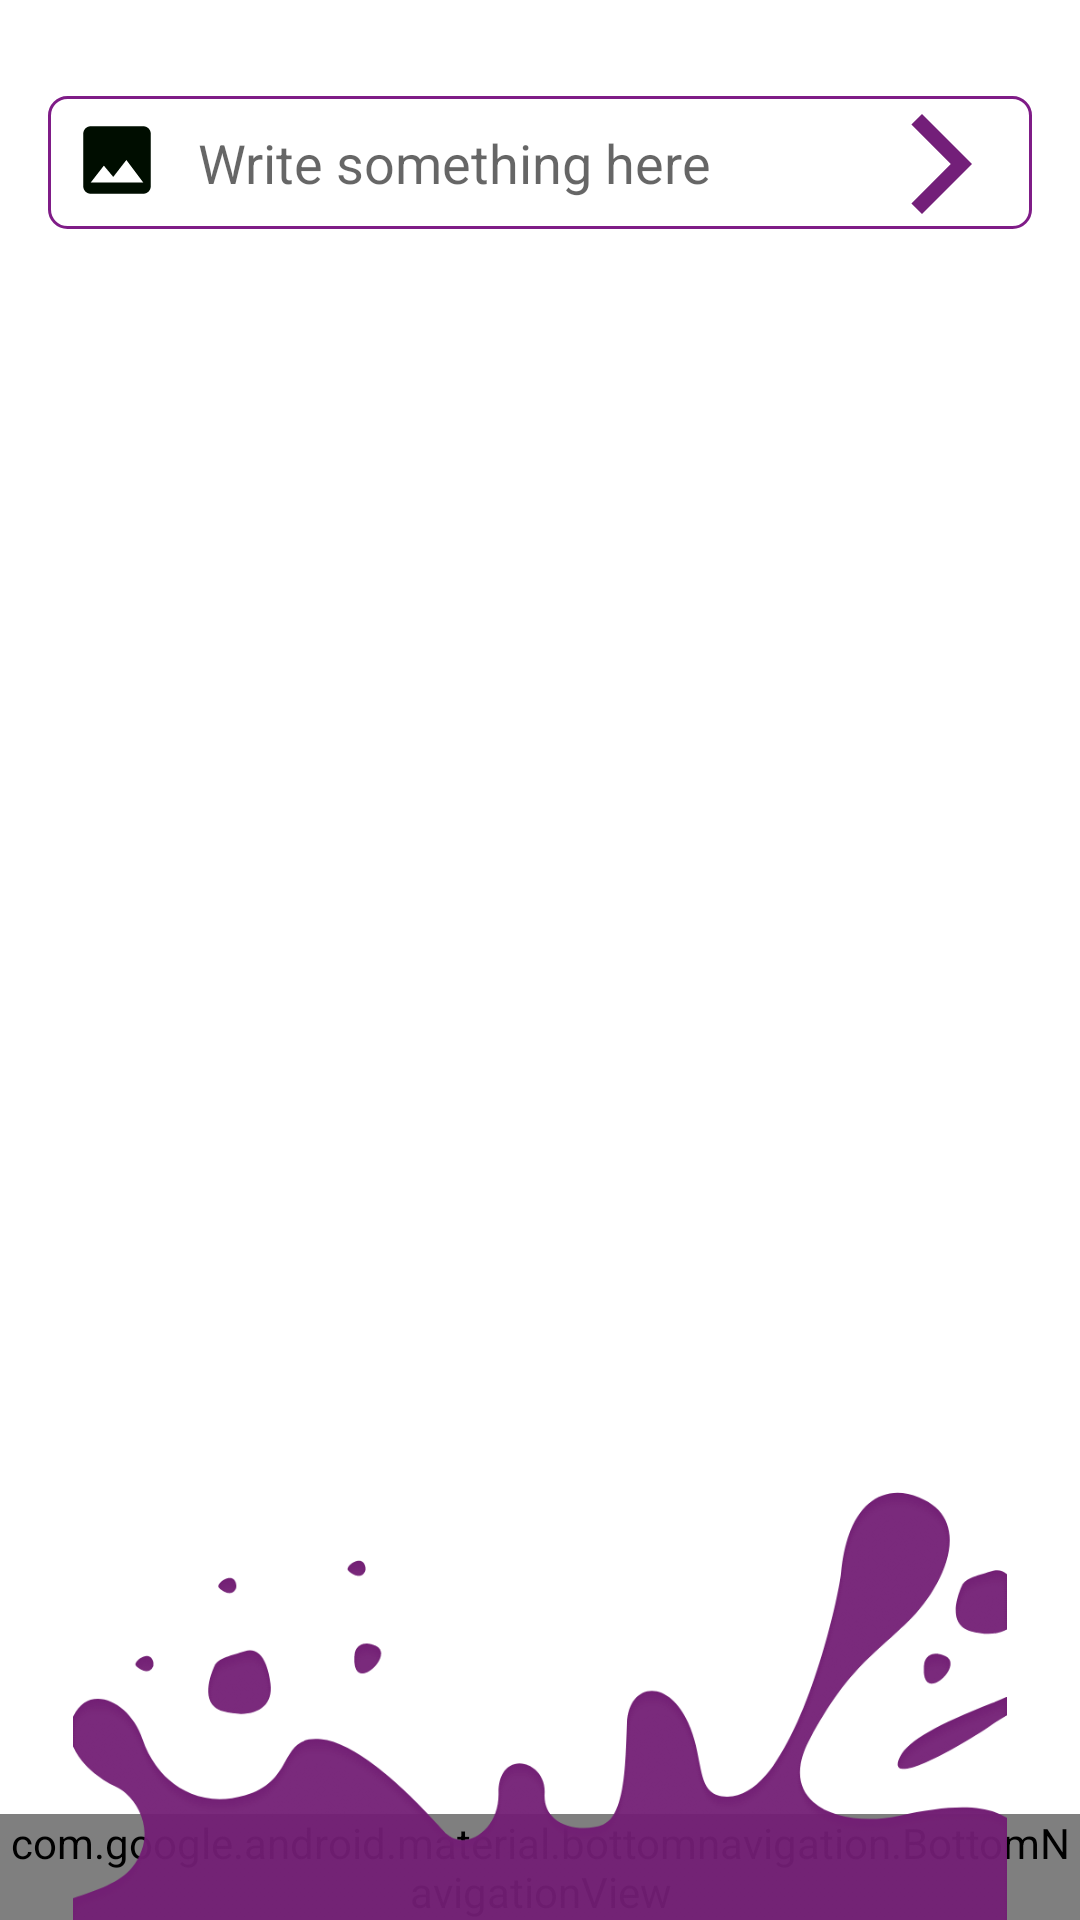

Point at icon controls on the screen. Image size 1080*1920, points as (x,y).
arrow forward: (941,164)
